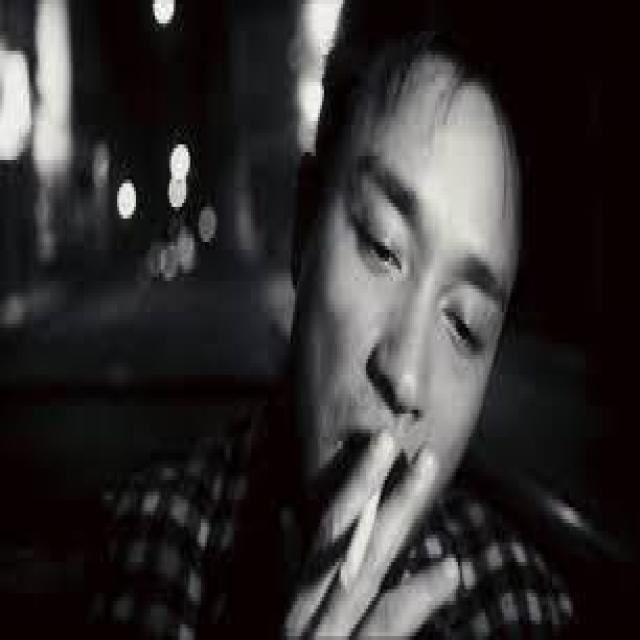cigarette: (335, 433, 387, 624)
